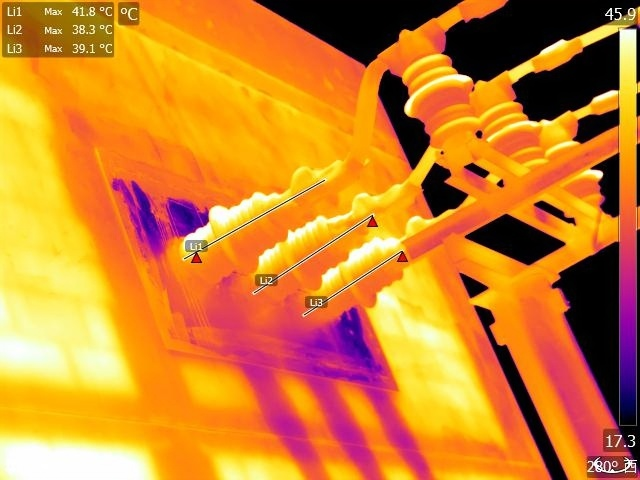post insulator: (407, 48, 483, 168), (474, 93, 561, 192), (536, 135, 620, 221)
tube: (170, 149, 337, 287), (246, 188, 387, 295), (280, 236, 417, 332)
